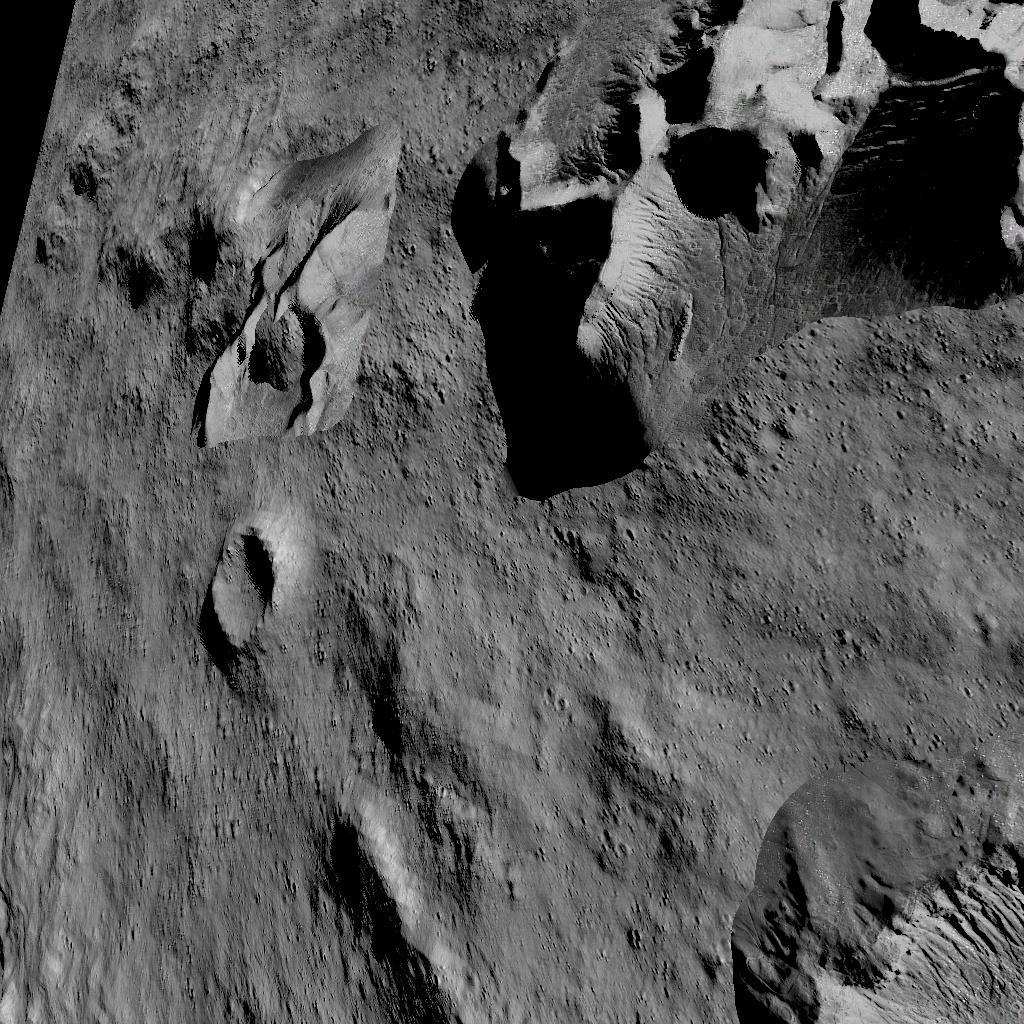Boulders: (447, 0, 1024, 499), (121, 120, 395, 448)
Crater: (729, 774, 1024, 1024), (197, 508, 295, 657)
Plan surface: (435, 508, 1024, 766), (0, 668, 306, 1024), (467, 778, 717, 1024), (3, 462, 183, 658), (123, 0, 431, 108)
